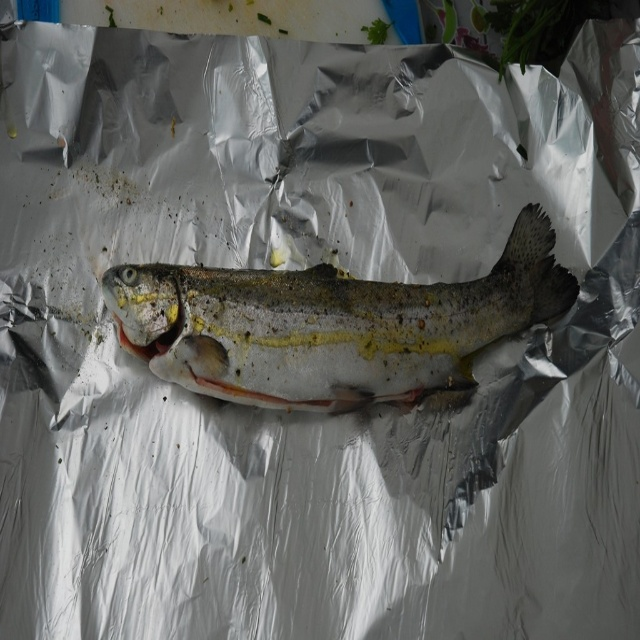Fish: (90, 210, 573, 439)
